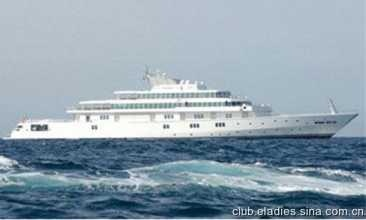yacht: (9, 68, 356, 145)
